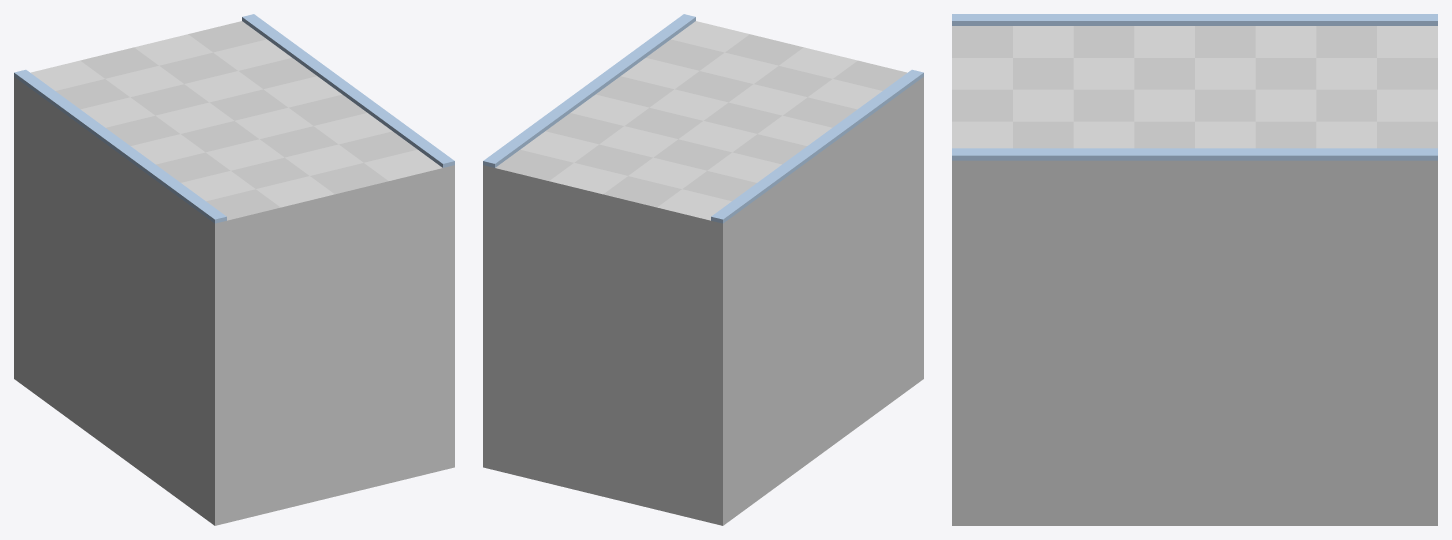
The model's file is Platform.fbx.
The picture shows the model from 3 angles, left to right: view 1: azimuth 30°, elevation 25°; view 2: azimuth 150°, elevation 25°; view 3: azimuth 270°, elevation 25°; orthographic projection. The views are drawn at different scales.
Parts seen in each view (by area): view 1: Platform; view 2: Platform; view 3: Platform.
Boxes of the visible parts, x1,y1,x2,y2 form: Platform: [14, 14, 454, 525]; Platform: [483, 14, 923, 525]; Platform: [952, 14, 1437, 525].
Size of the model in its own units: 19.87 by 24.24 by 28.81.
